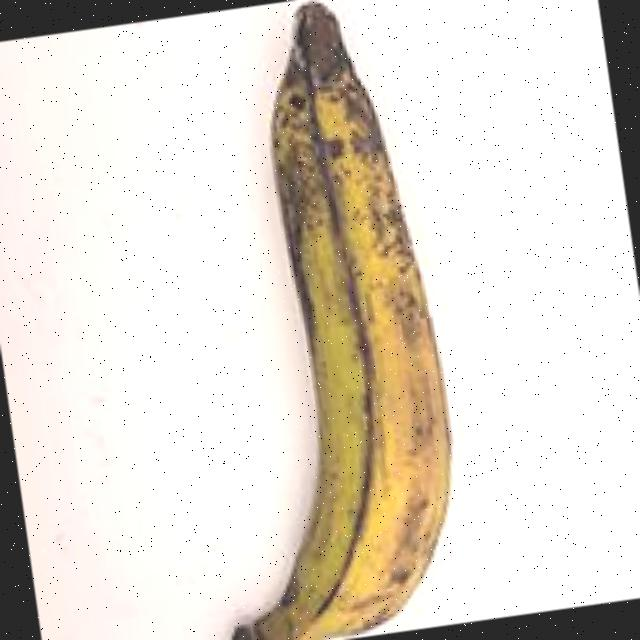Overripe: (91, 0, 522, 640)
